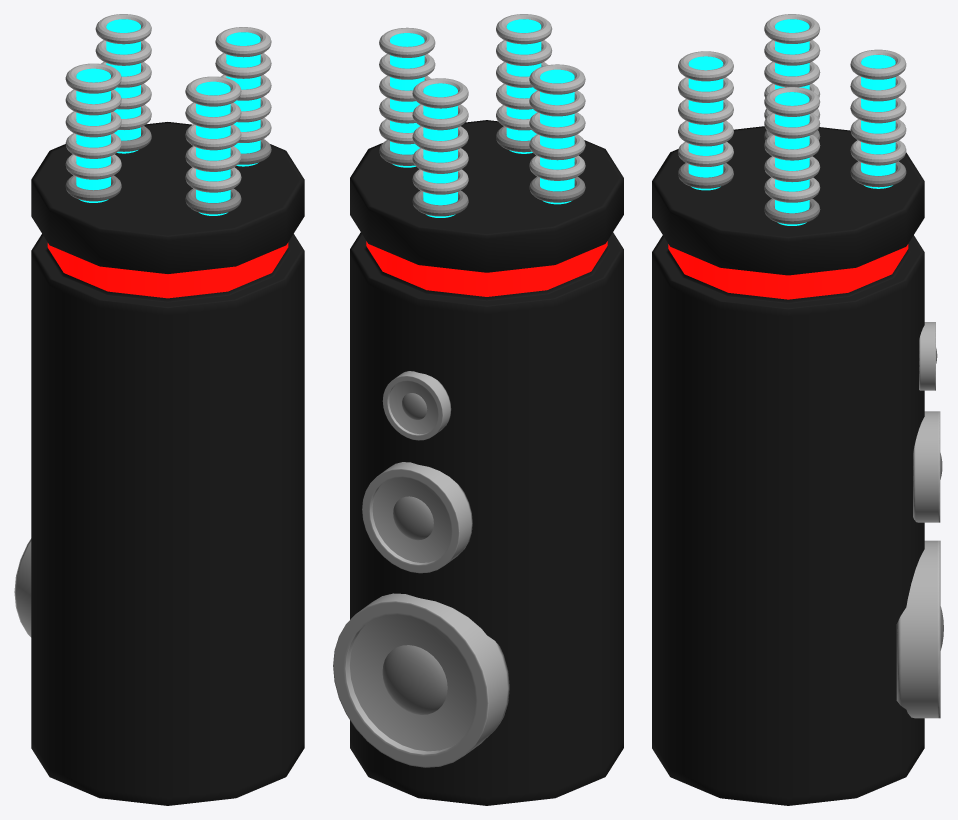
File: Beacon-drawLvl6.fbx
3 renders of one model, left to right at view 1: azimuth 30°, elevation 25°; view 2: azimuth 150°, elevation 25°; view 3: azimuth 270°, elevation 25°, orthographic.
Visible parts, largest first — view 1: Cylinder, Cylinder.007, Cylinder.002, Cylinder.005, Cylinder.006, Cylinder.003, Torus.018, Torus.006, Torus, Torus.012, Torus.001, Torus.008 (+10 smaller); view 2: Cylinder, Cylinder.003, Cylinder.004, Sphere, Cylinder.001, Cylinder.002, Cylinder.006, Cylinder.007, Cylinder.005, Sphere.001, Torus.006, Torus.012 (+15 smaller); view 3: Cylinder, Cylinder.003, Cylinder.004, Cylinder.007, Cylinder.005, Cylinder.006, Cylinder.002, Cylinder.001, Torus.012, Torus.006, Torus.018, Torus (+17 smaller).
Boxes of the visible parts, left/top/right/bottom form: Cylinder: left=31, top=122, right=304, bottom=805; Cylinder.007: left=196, top=81, right=230, bottom=215; Cylinder.002: left=76, top=68, right=110, bottom=202; Cylinder.005: left=226, top=32, right=260, bottom=166; Cylinder.006: left=106, top=19, right=140, bottom=153; Cylinder.003: left=14, top=538, right=31, bottom=637; Torus.018: left=185, top=76, right=241, bottom=106; Torus.006: left=65, top=63, right=121, bottom=93; Torus: left=215, top=27, right=271, bottom=57; Torus.012: left=95, top=14, right=151, bottom=44; Torus.001: left=215, top=53, right=271, bottom=78; Torus.008: left=65, top=111, right=121, bottom=137; Cylinder: left=350, top=120, right=623, bottom=805; Cylinder.003: left=333, top=593, right=509, bottom=767; Cylinder.004: left=362, top=462, right=472, bottom=573; Sphere: left=382, top=645, right=447, bottom=714; Cylinder.001: left=382, top=371, right=451, bottom=440; Cylinder.002: left=540, top=69, right=574, bottom=204; Cylinder.006: left=423, top=83, right=457, bottom=217; Cylinder.007: left=506, top=19, right=541, bottom=153; Cylinder.005: left=390, top=33, right=424, bottom=167; Sphere.001: left=393, top=496, right=433, bottom=540; Torus.006: left=529, top=64, right=585, bottom=94; Torus.012: left=412, top=78, right=468, bottom=108; Cylinder: left=652, top=126, right=924, bottom=805; Cylinder.003: left=896, top=540, right=940, bottom=718; Cylinder.004: left=913, top=411, right=940, bottom=522; Cylinder.007: left=688, top=56, right=723, bottom=190; Cylinder.005: left=775, top=92, right=809, bottom=225; Cylinder.006: left=861, top=55, right=895, bottom=188; Cylinder.002: left=775, top=19, right=809, bottom=89; Cylinder.001: left=919, top=322, right=935, bottom=390; Torus.012: left=850, top=49, right=906, bottom=79; Torus.006: left=764, top=14, right=820, bottom=43; Torus.018: left=678, top=51, right=733, bottom=81; Torus: left=764, top=87, right=820, bottom=116.
Bounding box in the file's own units: 279 × 779 × 299.
